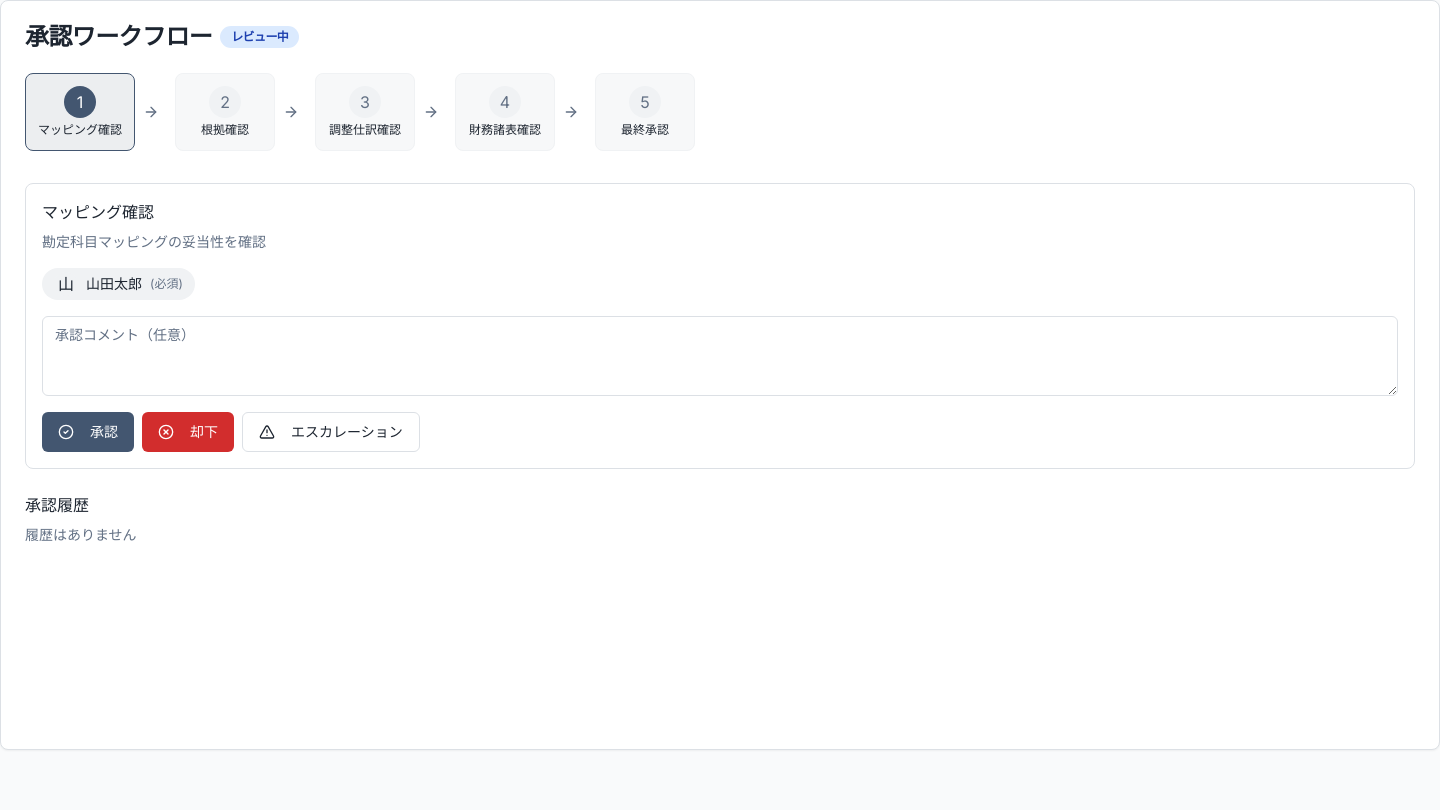
Test: conversion/approval-workflow — reject flow › rejects with the stage and reason, then closes the dialog
The width and height of the screenshot is (1440, 810).
Click the button "却下" at {"x": 188, "y": 432}, box [142,412,234,452]
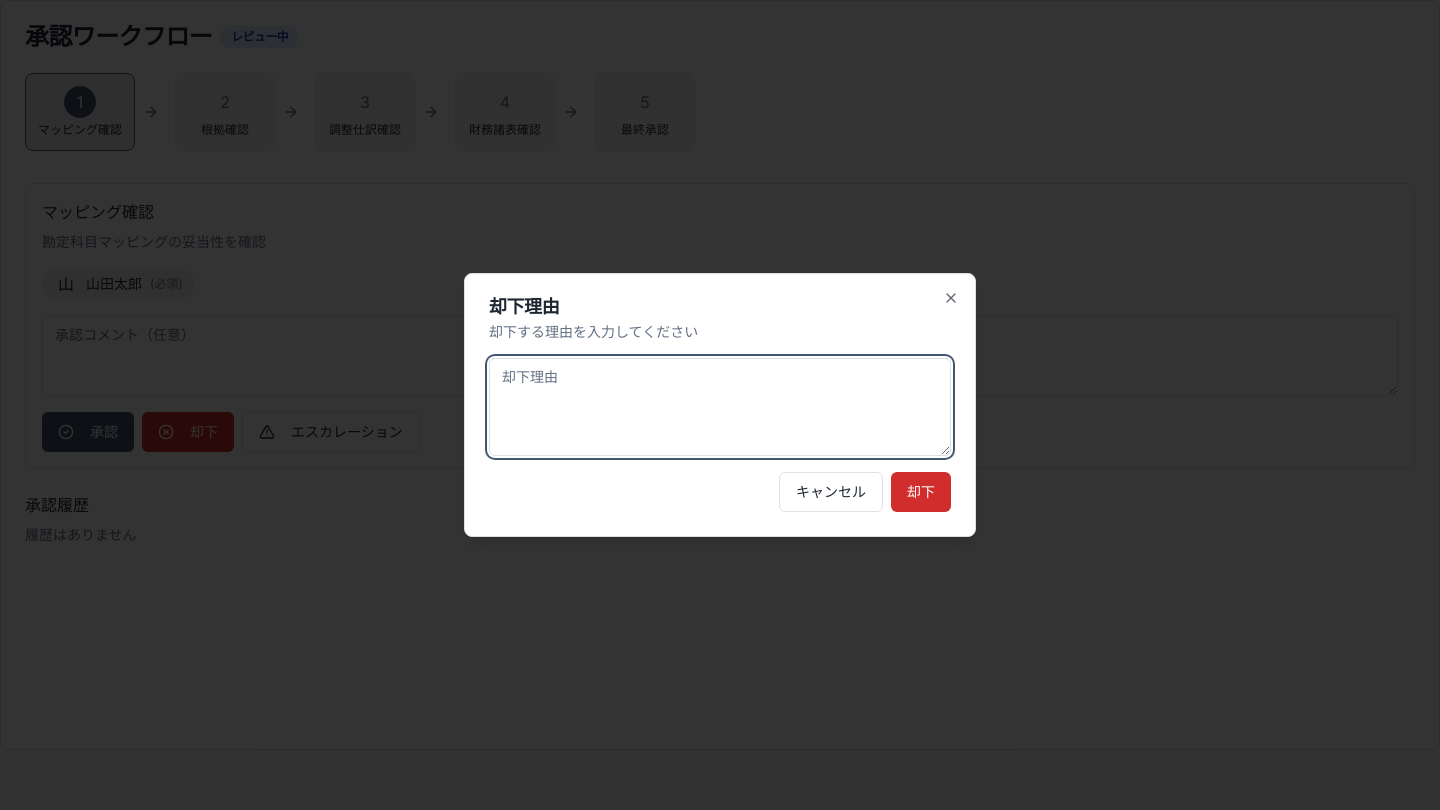
Type "不適切なマッピングです" into the text box with placeholder "却下理由" at {"x": 720, "y": 407}, box [489,358,951,456]
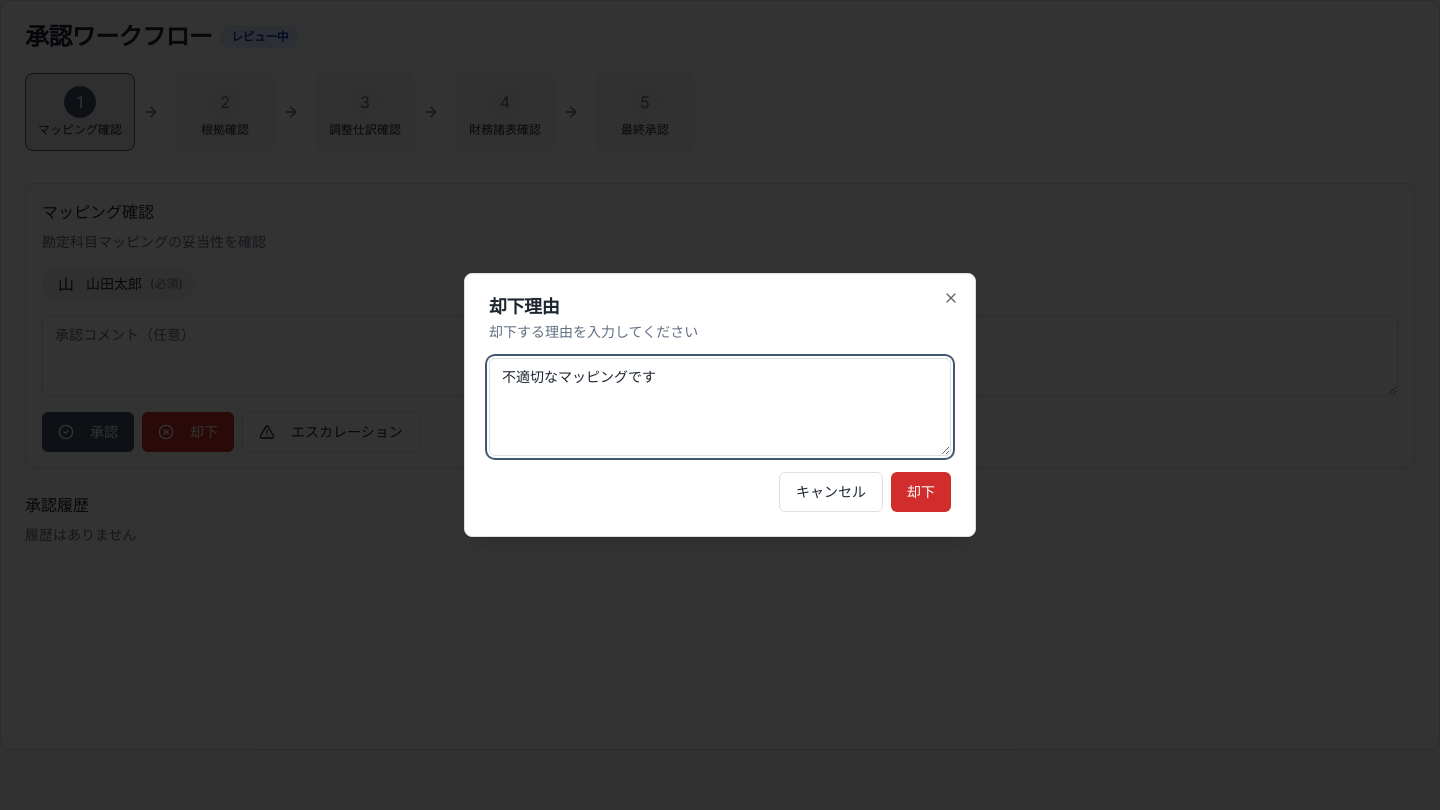
Click the button "却下" at {"x": 921, "y": 492}, box [891,472,951,512]
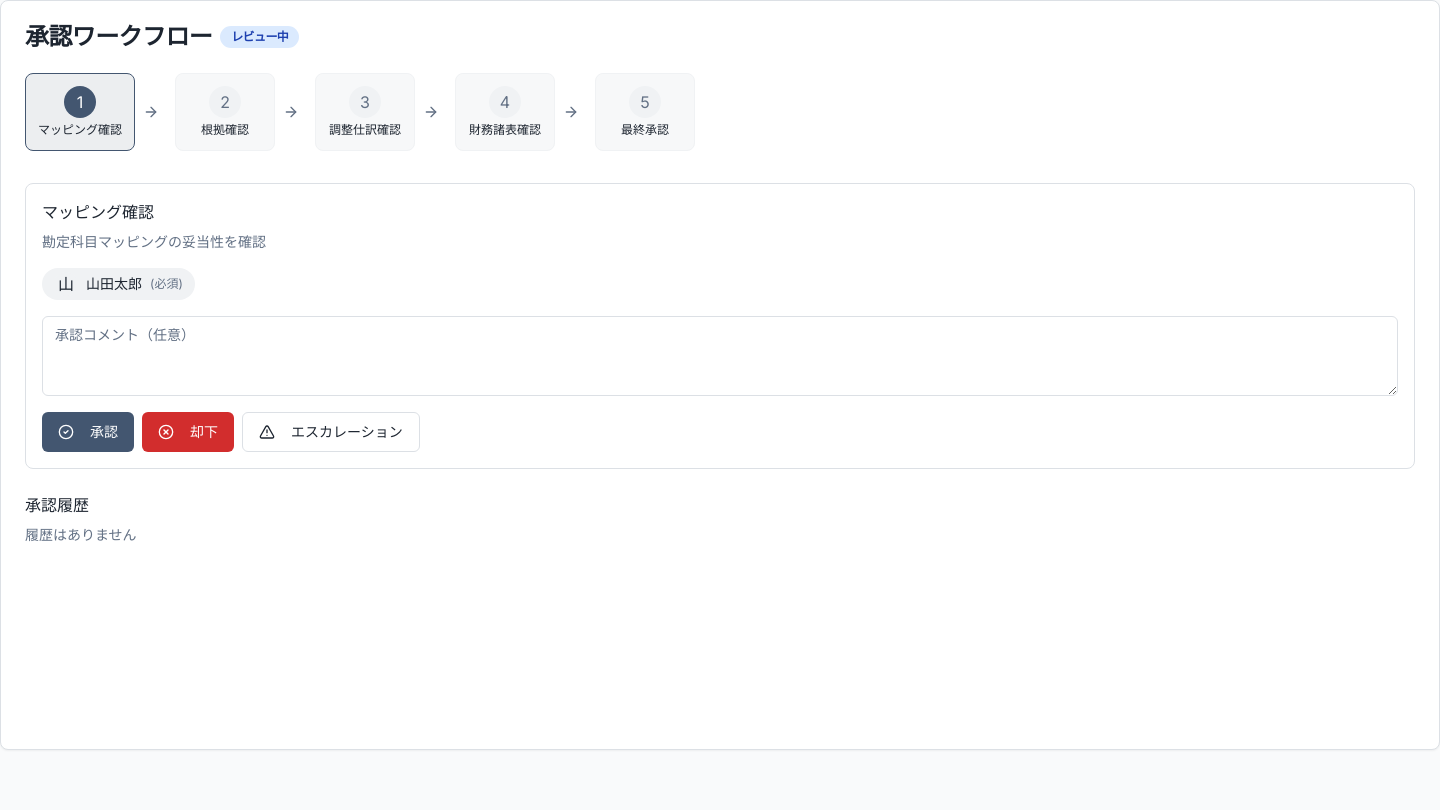
Expected: the dialog is gone
